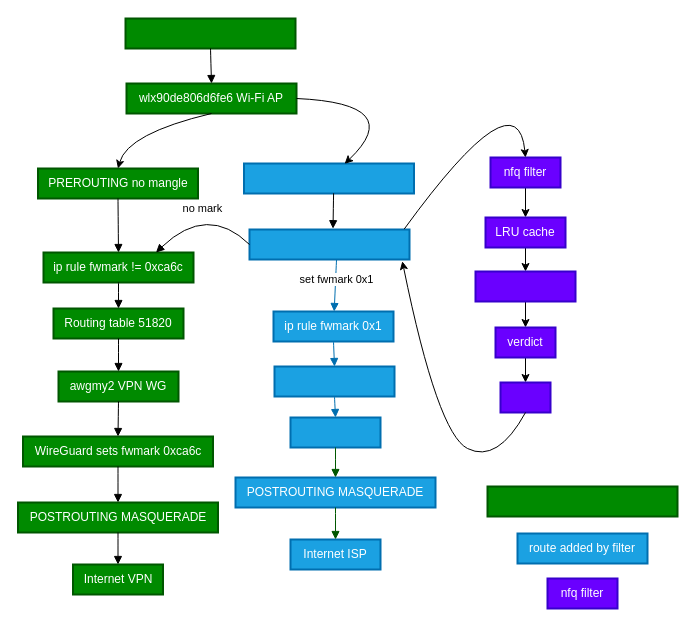
Some shapes in this 696 by 626 pixel diagram are drawn without their labels. Here are the shapes that lost their labels. From the top down, the box of each, then its label:
(124, 17, 296, 49): Wi-Fi Client 192.168.10.20
(242, 162, 414, 194): PREROUTING inet mangle
(248, 228, 410, 260): NFQUEUE 10 userspace
(474, 270, 576, 302): ASN detection
(273, 365, 395, 397): Routing table main
(499, 381, 551, 413): mask
(289, 416, 381, 448): enp1s0 WAN
(486, 485, 678, 517): normal route from client to VPN
